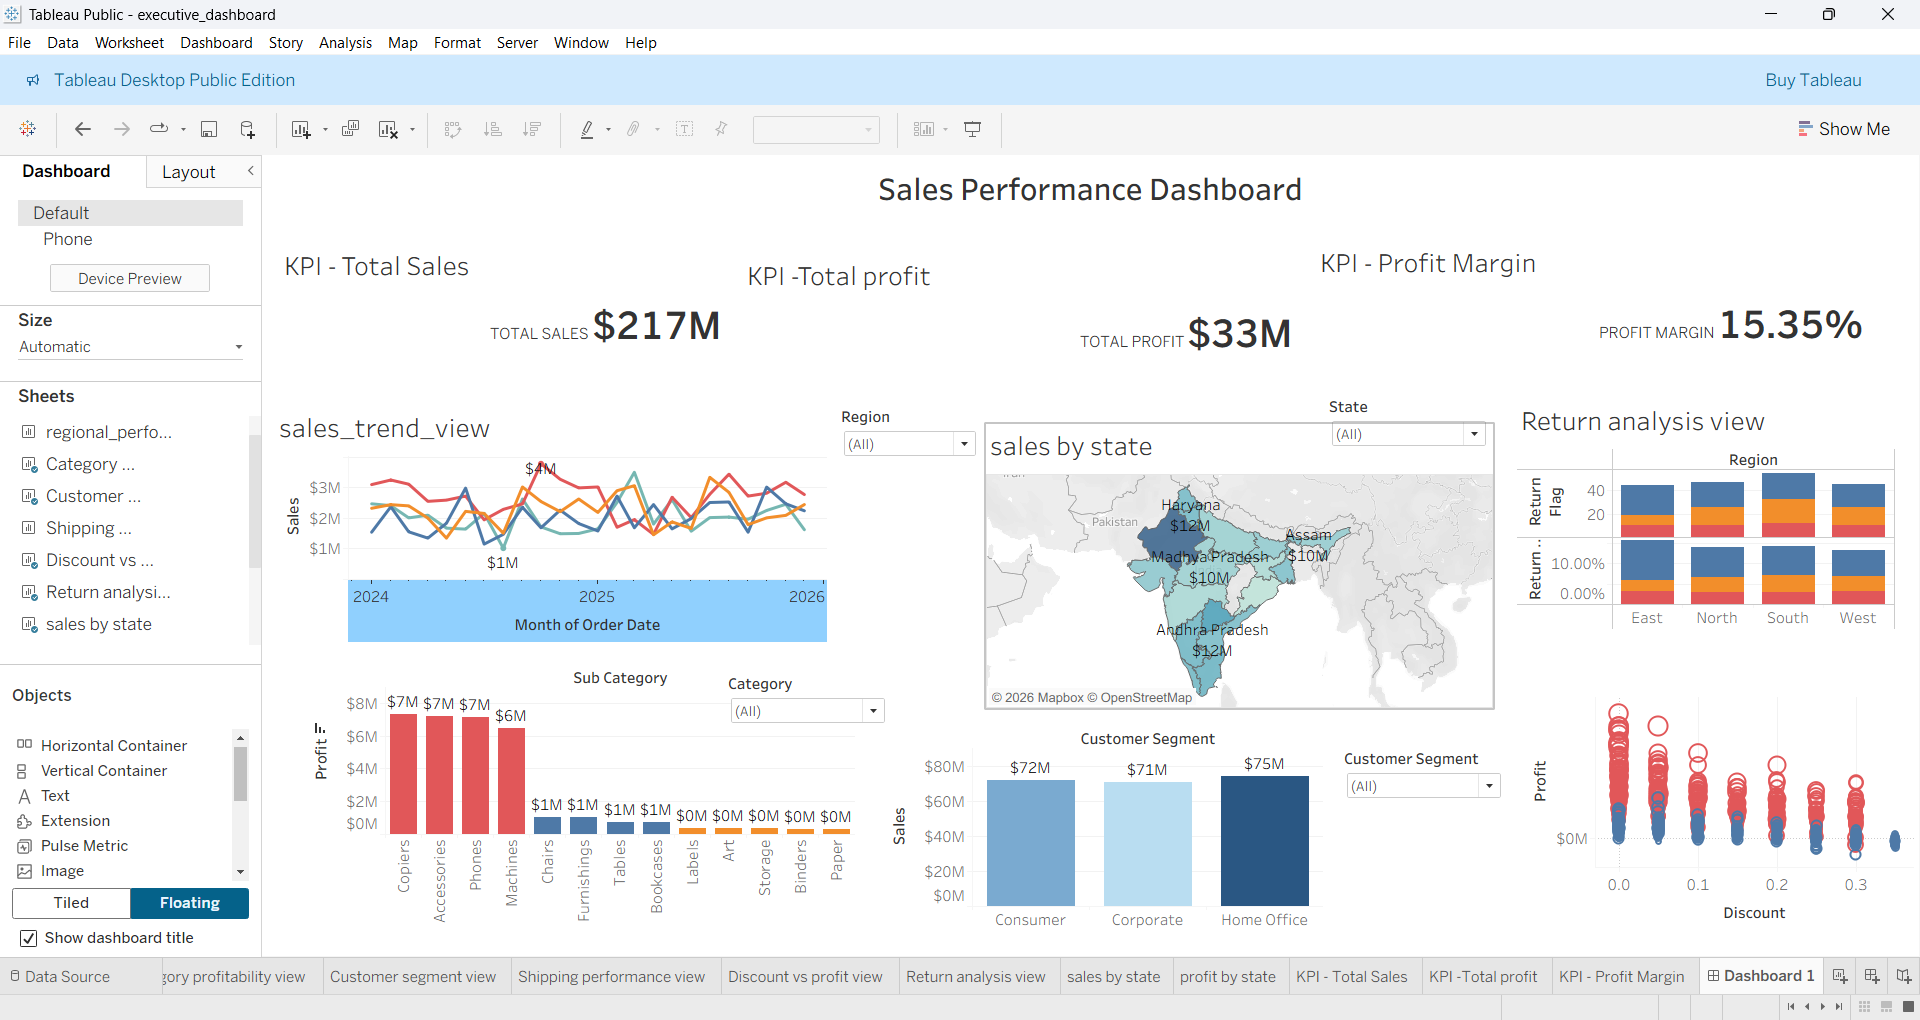

The dashboard page shown, as its layout file describes it:
{"tool":"tableau","page":{"name":"Dashboard 1","canvas":[1000,1000],"units":"permille","ordinal":0},"visuals":[{"type":"title","box":[4.8,10,990.3,61.2]},{"type":"worksheet","title":"KPI - Profit Margin","mark":"Automatic","box":[636.1,107.4,333.1,151.1]},{"type":"worksheet","title":"KPI - Total Sales","mark":"Automatic","box":[10.9,111.1,269.2,146.1]},{"type":"worksheet","title":"KPI -Total profit","mark":"Automatic","box":[290.3,123.6,334.3,141.1]},{"type":"filter","title":"sales by state","param":"[federated.1ufi4u608z300e1dh7ebm0hu70ow].[none:state:nk]","box":[643.9,300.9,96.6,89.9]},{"type":"worksheet","title":"Return analysis view","mark":"Automatic","rows":["return_flag","Calculation_1008269302194179"],"cols":["region"],"box":[757.4,304.6,228.1,288.4]},{"type":"worksheet","title":"sales_trend_view","mark":"Automatic","rows":["sales"],"cols":["order_date"],"box":[7.9,313.4,333.1,294.6]},{"type":"filter","title":"sales_trend_view","param":"[federated.1ufi4u608z300e1dh7ebm0hu70ow].[none:region:nk]","box":[349.4,313.4,83.3,178.5]},{"type":"worksheet","title":"sales by state","mark":"Automatic","box":[436.9,335.8,306,354.6]},{"type":"worksheet","title":"Category profitability view","mark":"Automatic","rows":["profit"],"cols":["sub_category"],"box":[24.7,639.2,333.1,333.3]},{"type":"filter","title":"Category profitability view","param":"[federated.1ufi4u608z300e1dh7ebm0hu70ow].[none:category:nk]","box":[281.2,646.7,96.6,71.2]},{"type":"worksheet","title":"Discount vs profit view","mark":"Automatic","rows":["profit"],"cols":["discount"],"box":[760.4,676.6,236.6,290.9]},{"type":"worksheet","title":"Customer segment view","mark":"Automatic","rows":["sales"],"cols":["customer_segment"],"box":[373.6,715.4,266.8,272.2]},{"type":"filter","title":"Customer segment view","param":"[federated.1ufi4u608z300e1dh7ebm0hu70ow].[none:customer_segment:nk]","box":[653,740.3,96.6,149.8]}]}

Visuals, with their boxes on the dashboard's canvas, which has no fixed pixel size, in thousandths of its width and height (x1, y1, x2, y2). These are canvas units, not pixel positions in the 1920x1020 screenshot, which may show the page scaled, cropped or inside an application window:
title: crop(5, 10, 995, 71)
"KPI - Profit Margin" worksheet: crop(636, 107, 969, 258)
"KPI - Total Sales" worksheet: crop(11, 111, 280, 257)
"KPI -Total profit" worksheet: crop(290, 124, 625, 265)
"sales by state" filter: crop(644, 301, 740, 391)
"Return analysis view" worksheet: crop(757, 305, 986, 593)
"sales_trend_view" worksheet: crop(8, 313, 341, 608)
"sales_trend_view" filter: crop(349, 313, 433, 492)
"sales by state" worksheet: crop(437, 336, 743, 690)
"Category profitability view" worksheet: crop(25, 639, 358, 972)
"Category profitability view" filter: crop(281, 647, 378, 718)
"Discount vs profit view" worksheet: crop(760, 677, 997, 968)
"Customer segment view" worksheet: crop(374, 715, 640, 988)
"Customer segment view" filter: crop(653, 740, 750, 890)
